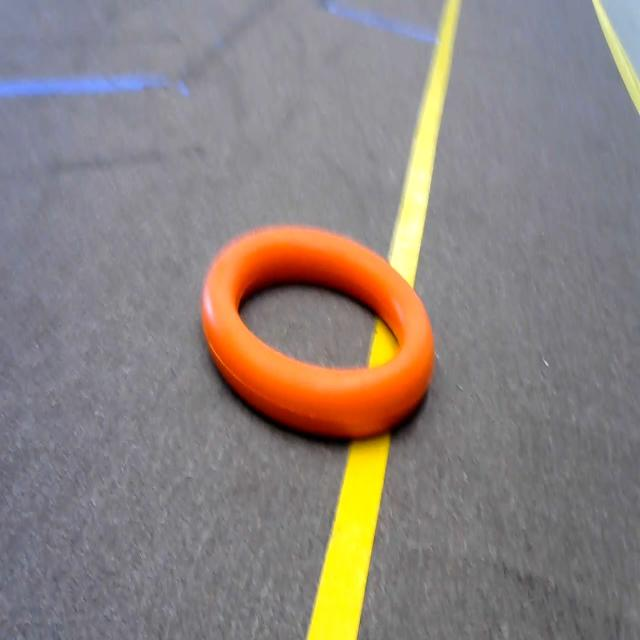note: (184, 194, 476, 463)
